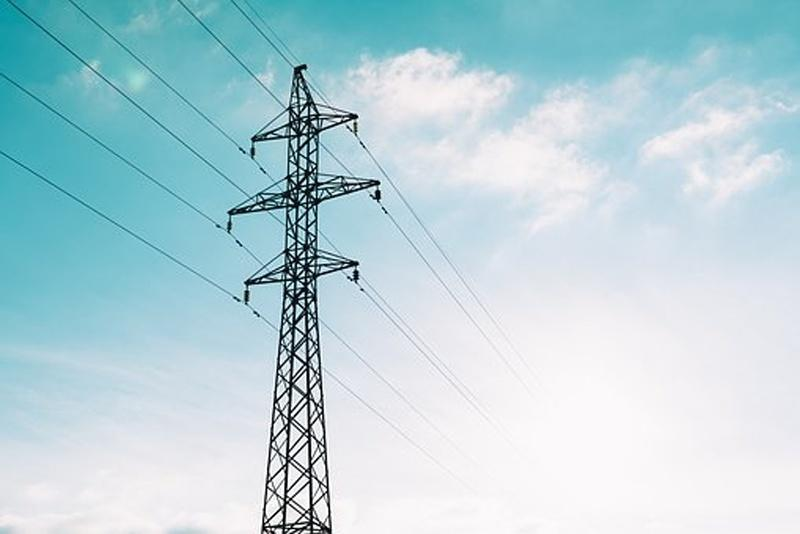power_tower: (216, 61, 392, 527)
